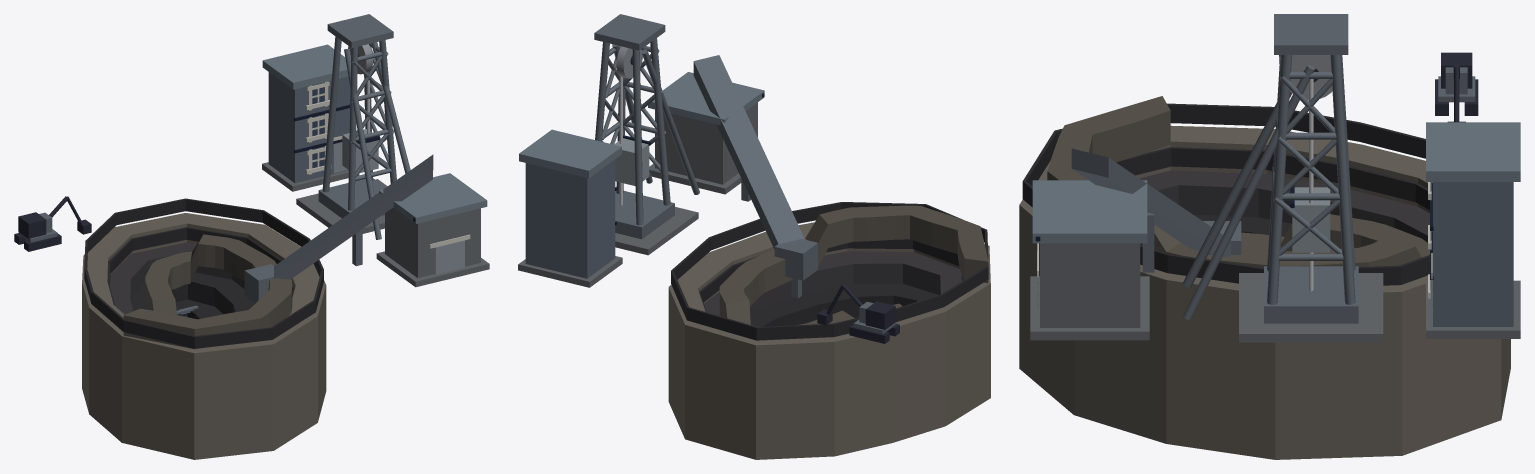
File: mine_flush_lvl3.glb
The picture shows the model from 3 angles, left to right: view 1: azimuth 30°, elevation 25°; view 2: azimuth 150°, elevation 25°; view 3: azimuth 270°, elevation 25°; orthographic projection. The views are drawn at different scales.
Visible parts, largest first — view 1: mine_flush; view 2: mine_flush; view 3: mine_flush.
Part boxes in pixels (bbox=[...]): mine_flush: bbox=[14, 14, 489, 459]; mine_flush: bbox=[518, 14, 990, 459]; mine_flush: bbox=[1019, 14, 1520, 459].
Bounding box in the file's own units: 0.9016 × 0.8014 × 0.7658.
